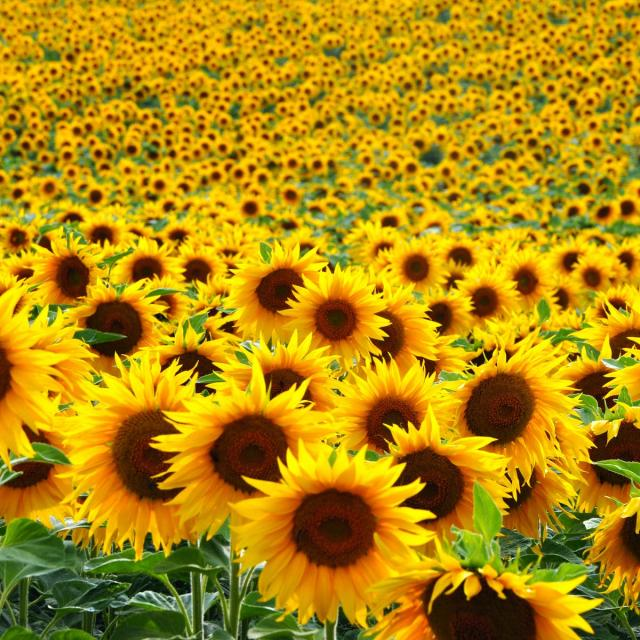sunflower: (242, 434, 433, 636), (150, 358, 343, 550), (55, 358, 220, 566), (426, 329, 583, 489), (365, 546, 604, 640), (41, 274, 176, 378), (226, 235, 337, 352), (281, 264, 388, 370), (99, 234, 188, 306), (581, 299, 640, 404), (482, 245, 555, 313), (384, 234, 450, 298)
